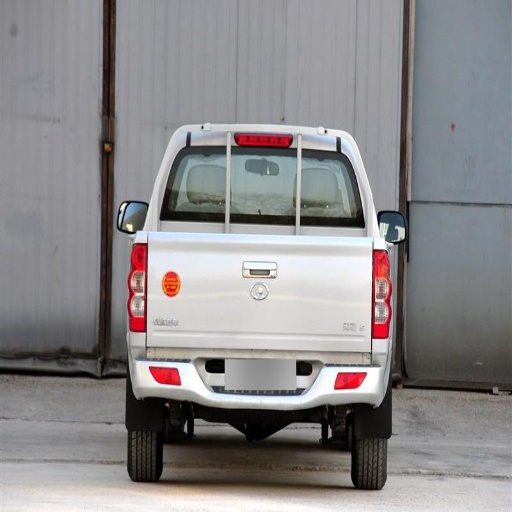back_bumper: (127, 335, 386, 411)
trunk: (131, 221, 374, 353)
